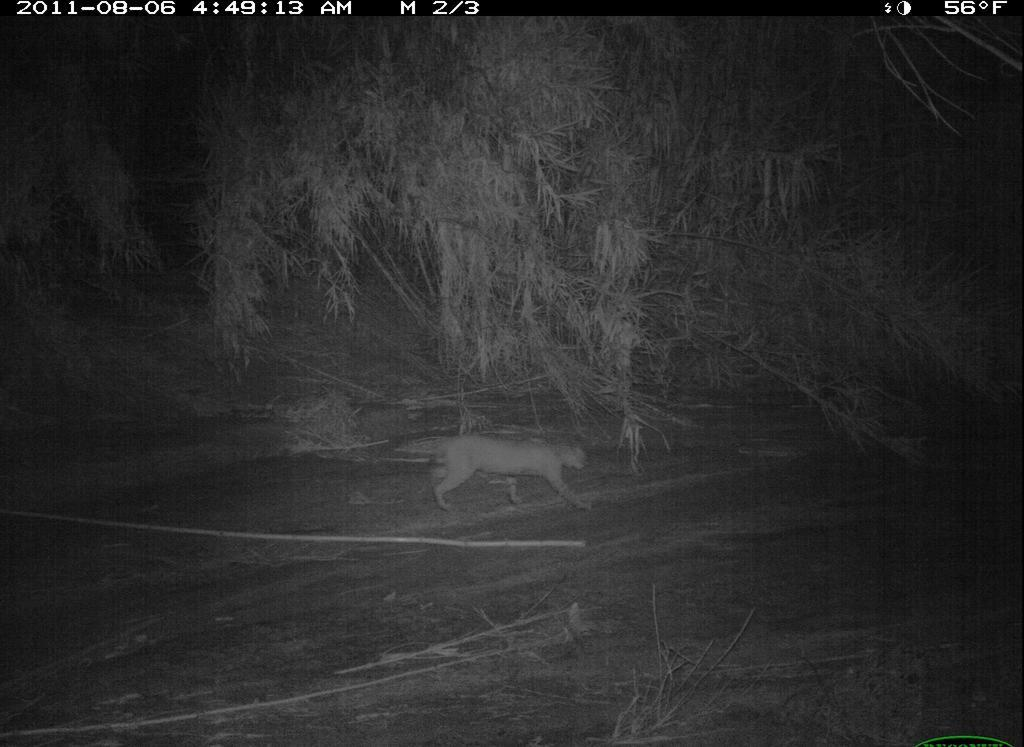bobcat: (390, 363, 616, 543)
